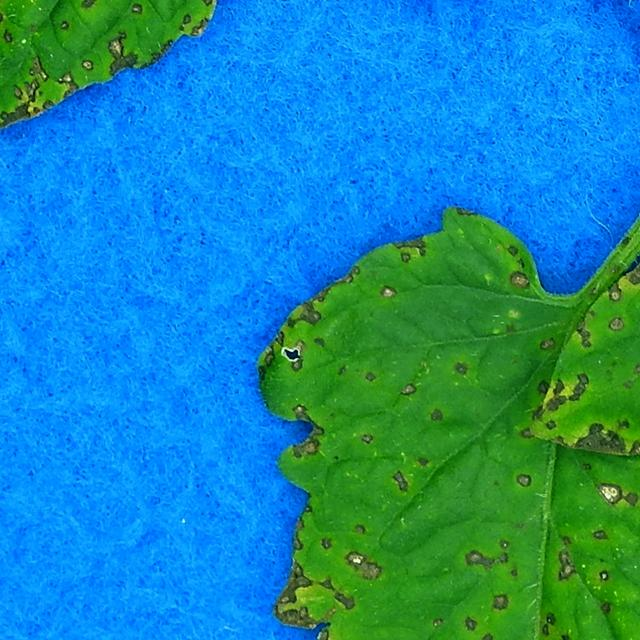Tomato Septoria leaf spot: (252, 76, 640, 640), (0, 0, 254, 250), (519, 176, 640, 473)
